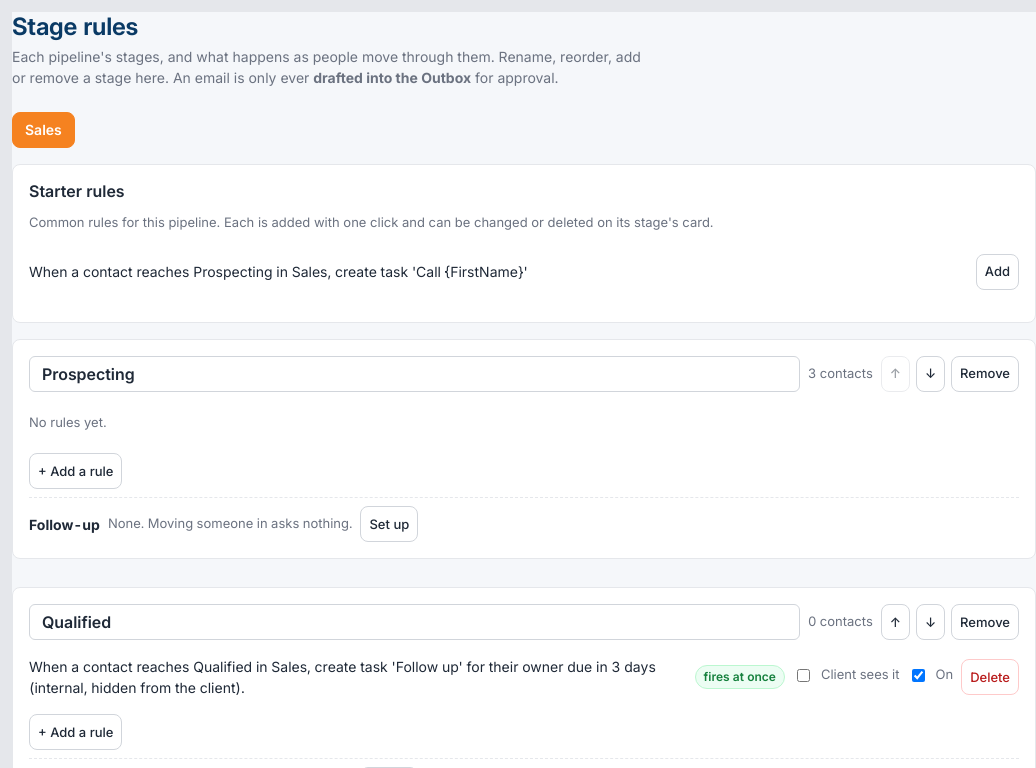
Test: stage rules, part 2: one card per stage › shows the server's refusal on the stage's own card
Step 1. Click the button with aria-label "Remove Qualified" → {"x": 985, "y": 622}, box [951,604,1019,640]
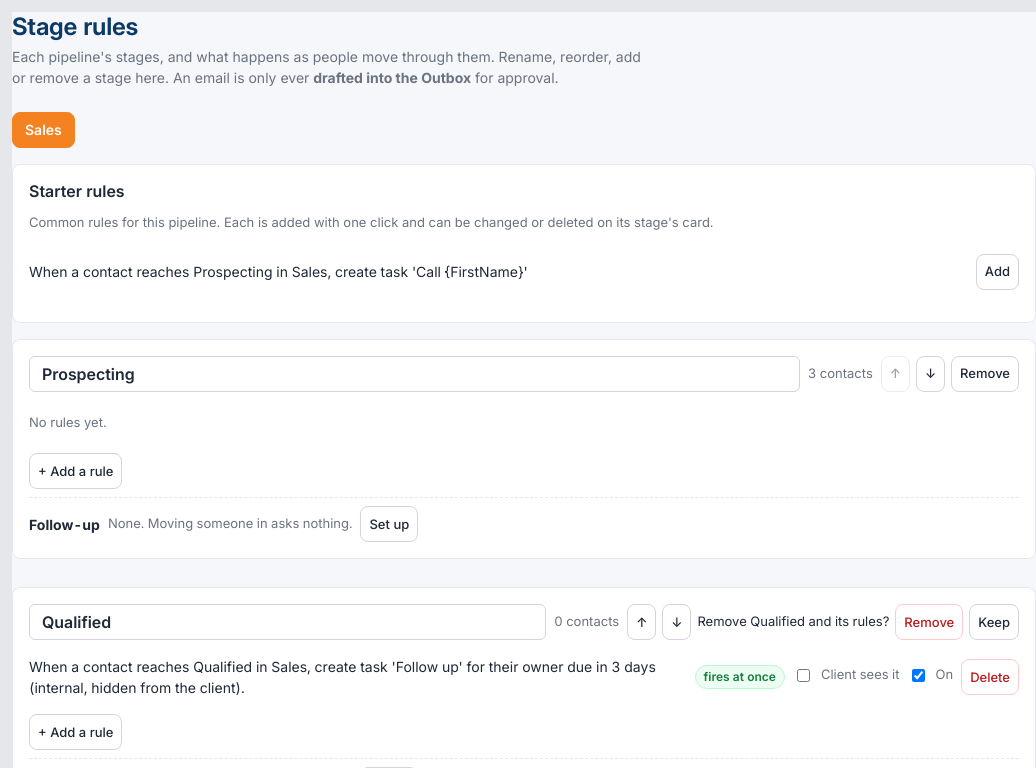
Step 2. Click the button "Remove" next to "and its rules?" → {"x": 929, "y": 622}, box [895,604,963,640]
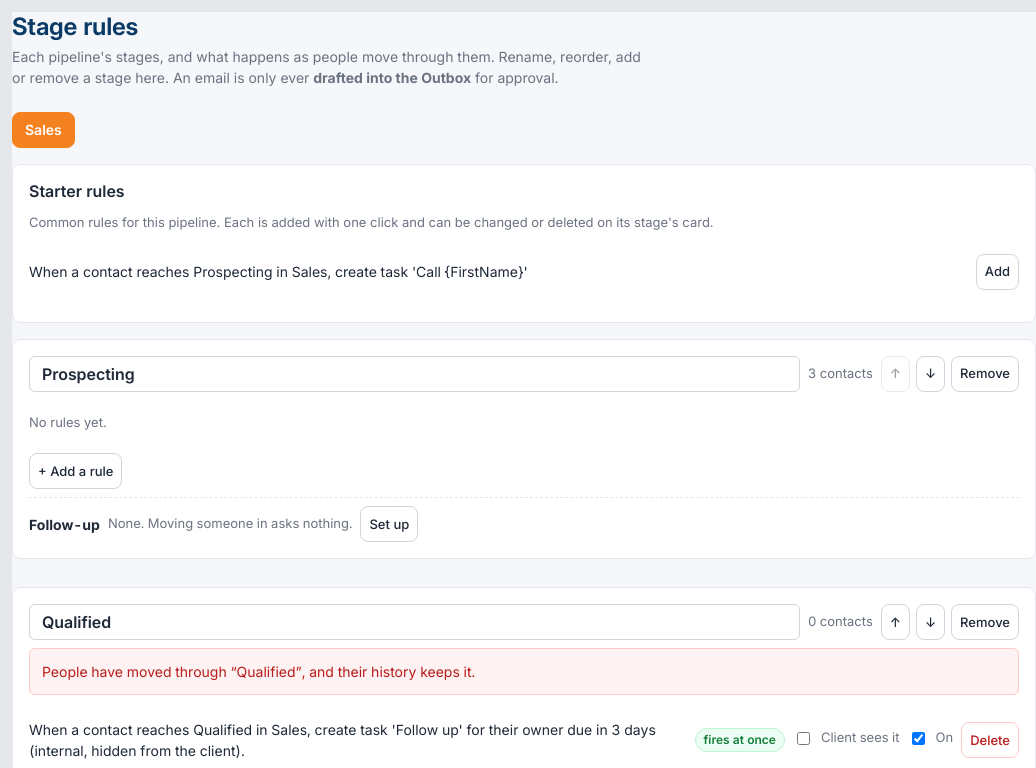
Check: the message shows "history keeps it", box [42,663,475,680]
